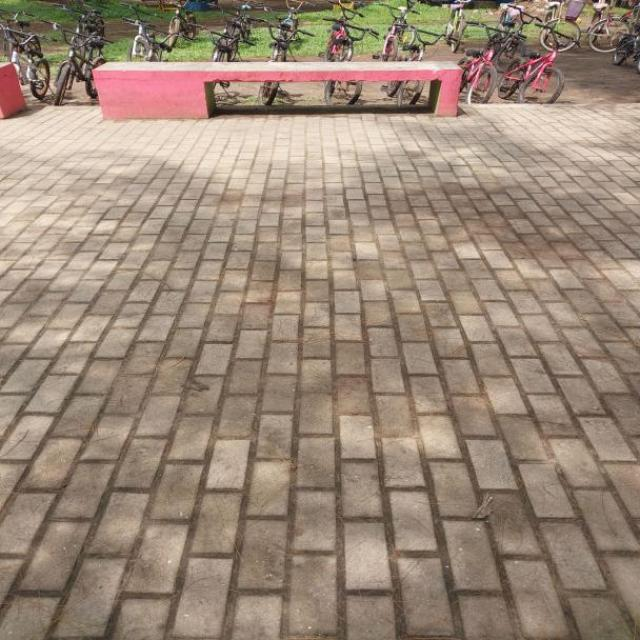bench ahead at: (90, 58, 465, 120)
bicycle ahead at: (522, 16, 575, 103), (44, 18, 94, 104)
